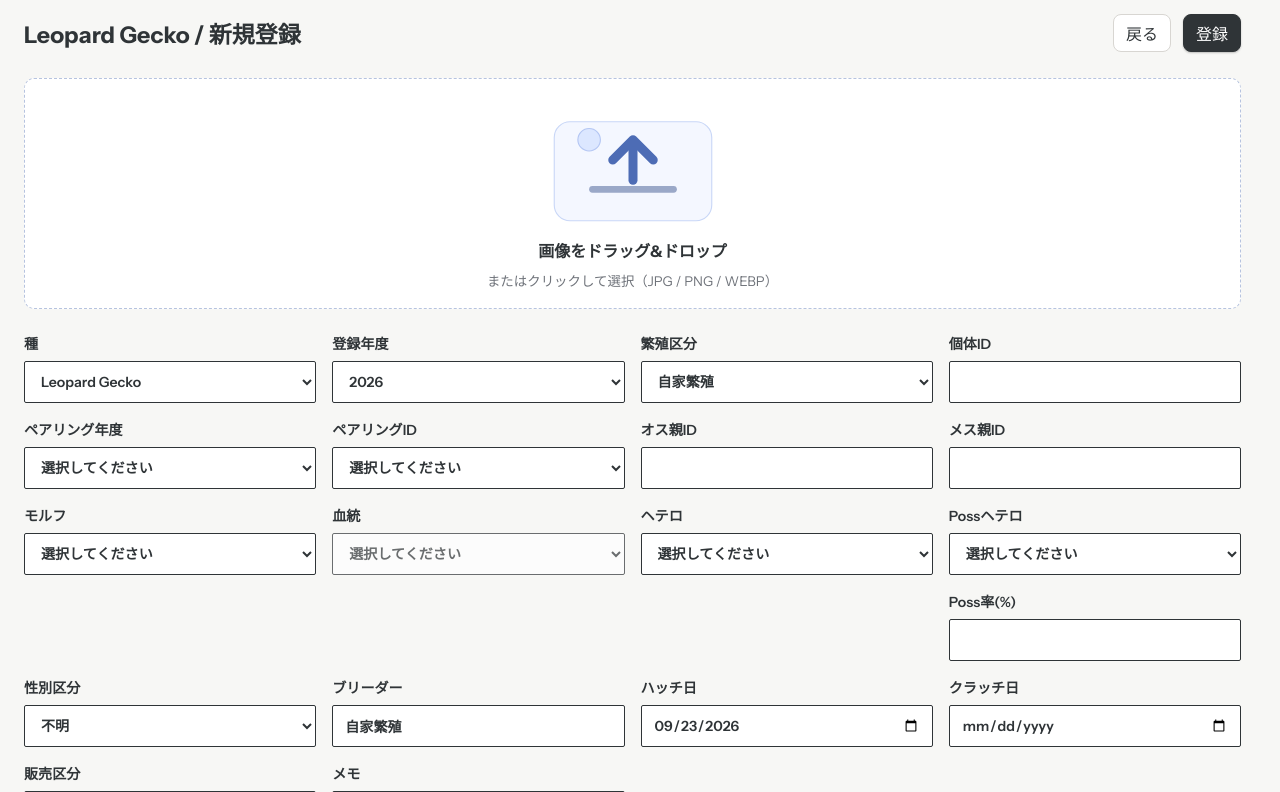
Test: IndividualCreateScreen › adds another het row after selecting the current last het row
Expected: the field labelled "ヘテロ2" is not shown
Select "Bell Albino" in the dropdown labelled "ヘテロ". click: x=787, y=554
box: 640,533 -> 933,575
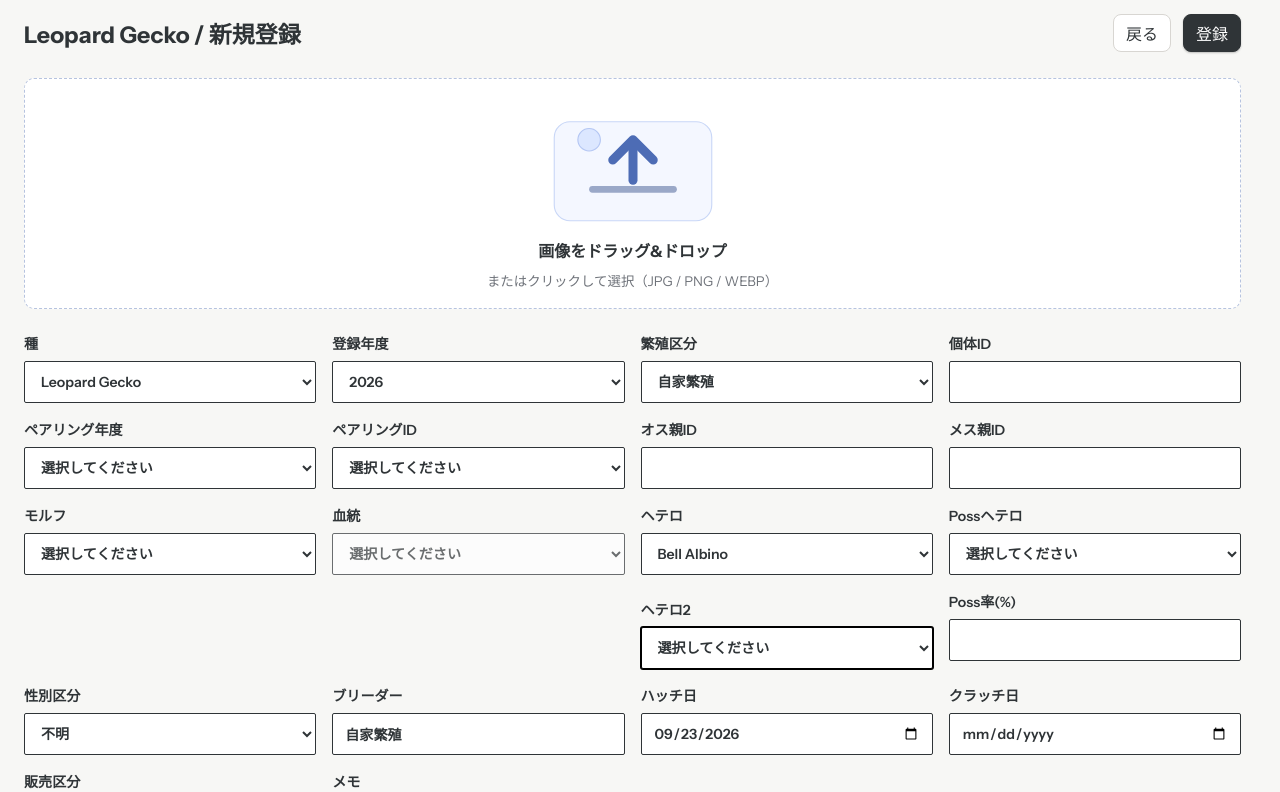
Now the dropdown labelled "ヘテロ2" is shown, box 640,627 -> 933,669
